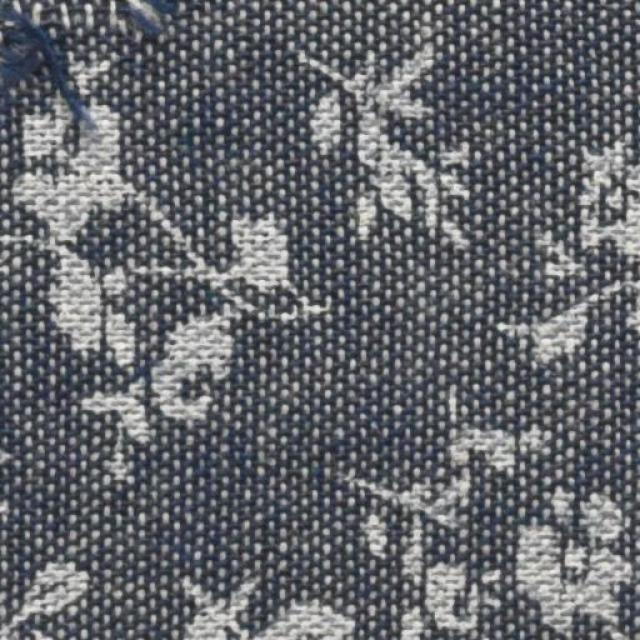Snag: (0, 4, 187, 104)
